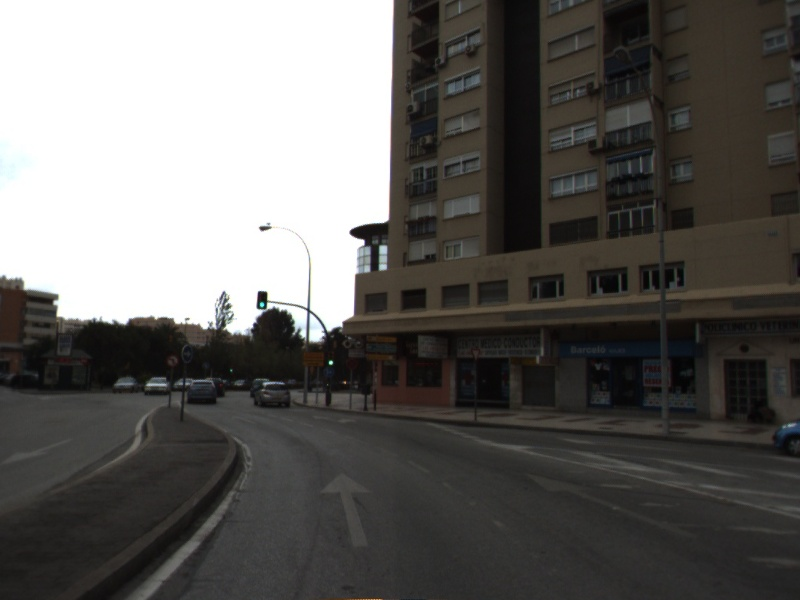STRAIGHT: (523, 470, 701, 541), (317, 470, 375, 549)
